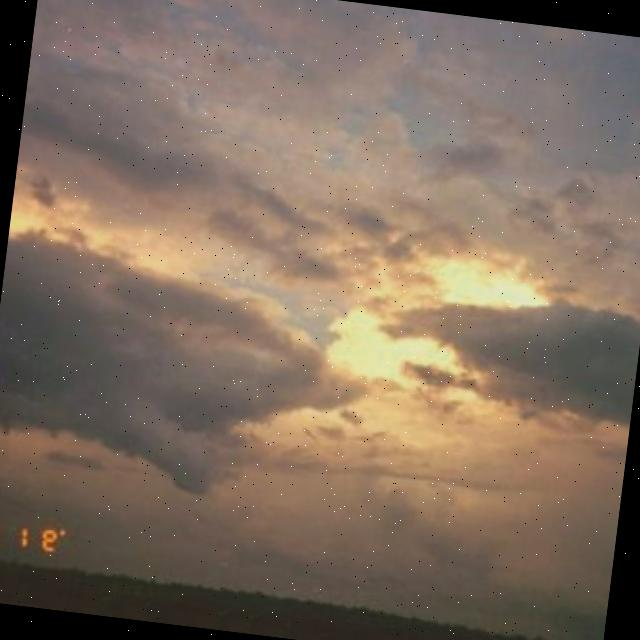Cb: (1, 1, 640, 505)
